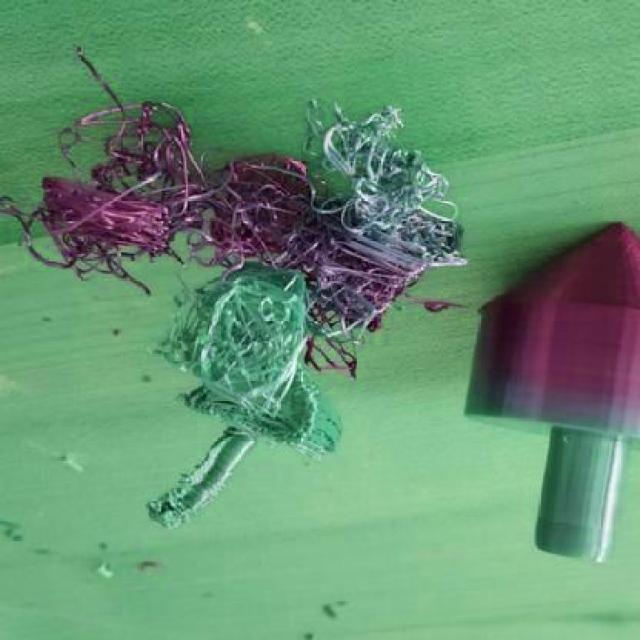Spaghetti: (1, 46, 473, 385), (178, 380, 342, 463)
